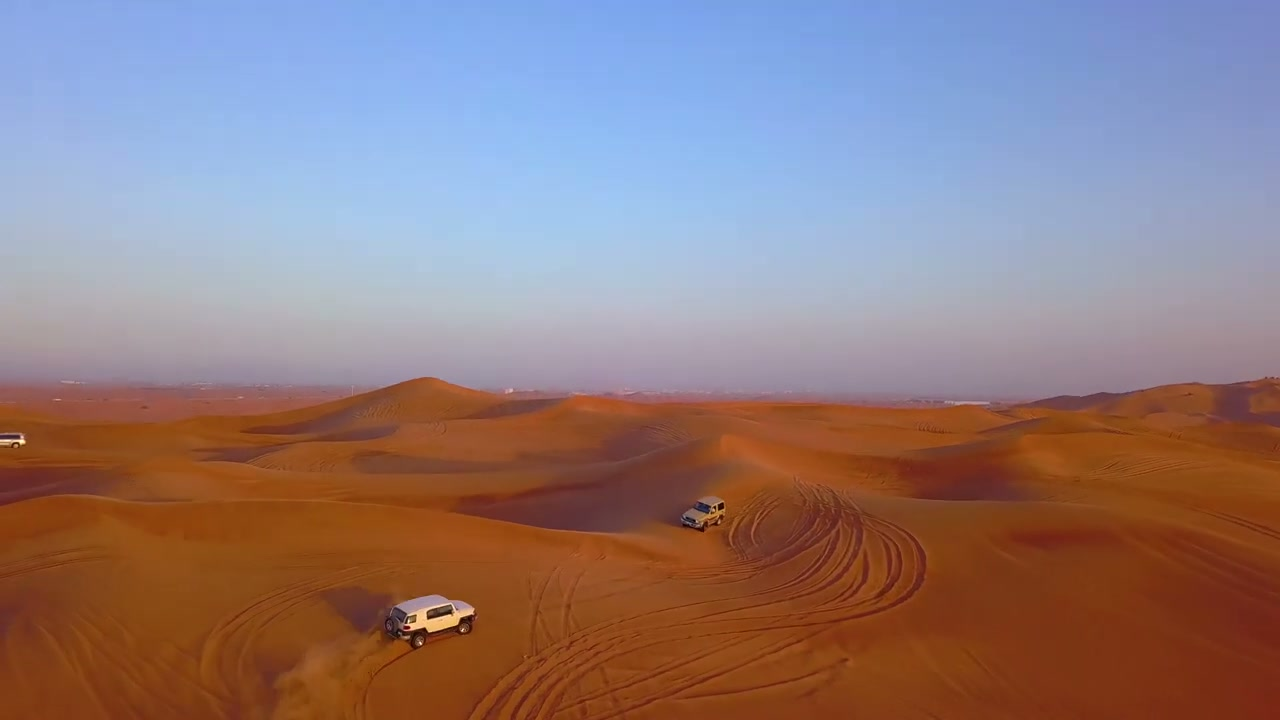vehicle_track: (470, 479, 925, 719), (199, 563, 393, 705), (0, 548, 110, 580), (1190, 507, 1279, 539)
